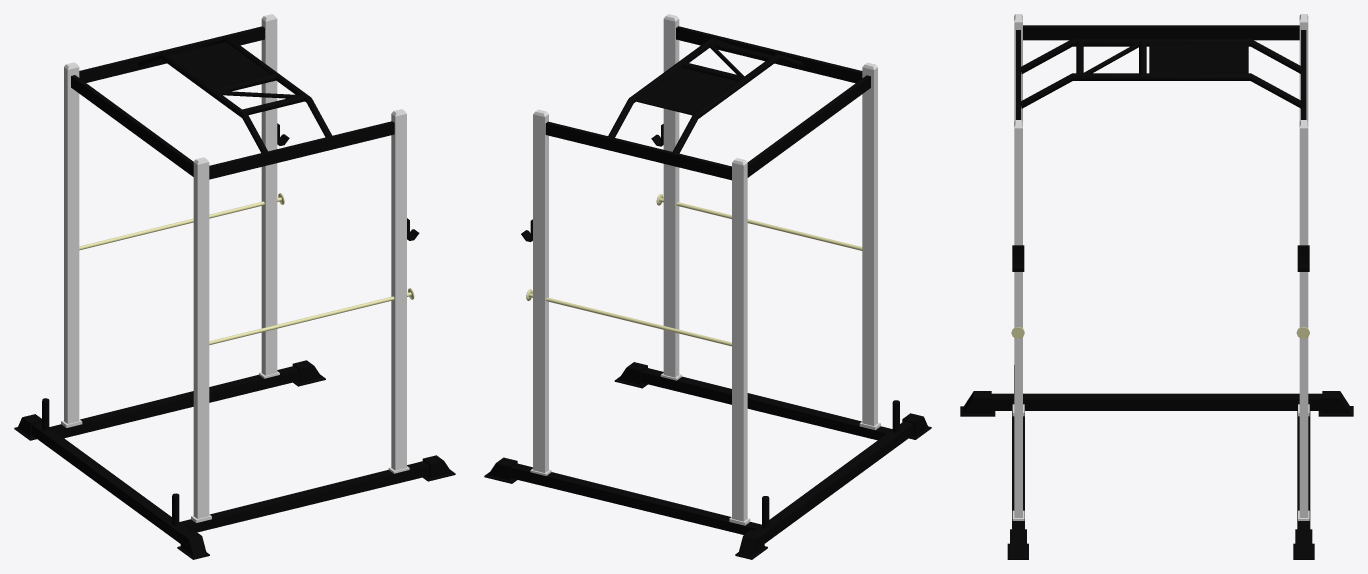
Rendered from SquatRack.fbx.
3 views of the same model, side by side, from view 1: azimuth 30°, elevation 25°; view 2: azimuth 150°, elevation 25°; view 3: azimuth 270°, elevation 25° (orthographic). The views are drawn at different scales.
Parts seen in each view (by area): view 1: SRack_LOD0; view 2: SRack_LOD0; view 3: SRack_LOD0.
Boxes of the visible parts, x1=… form: SRack_LOD0: x1=14, y1=14, x2=455, y2=559; SRack_LOD0: x1=484, y1=14, x2=931, y2=559; SRack_LOD0: x1=960, y1=14, x2=1353, y2=559.
Size of what is drawn, in the model's own units: 211 by 273 by 230.
